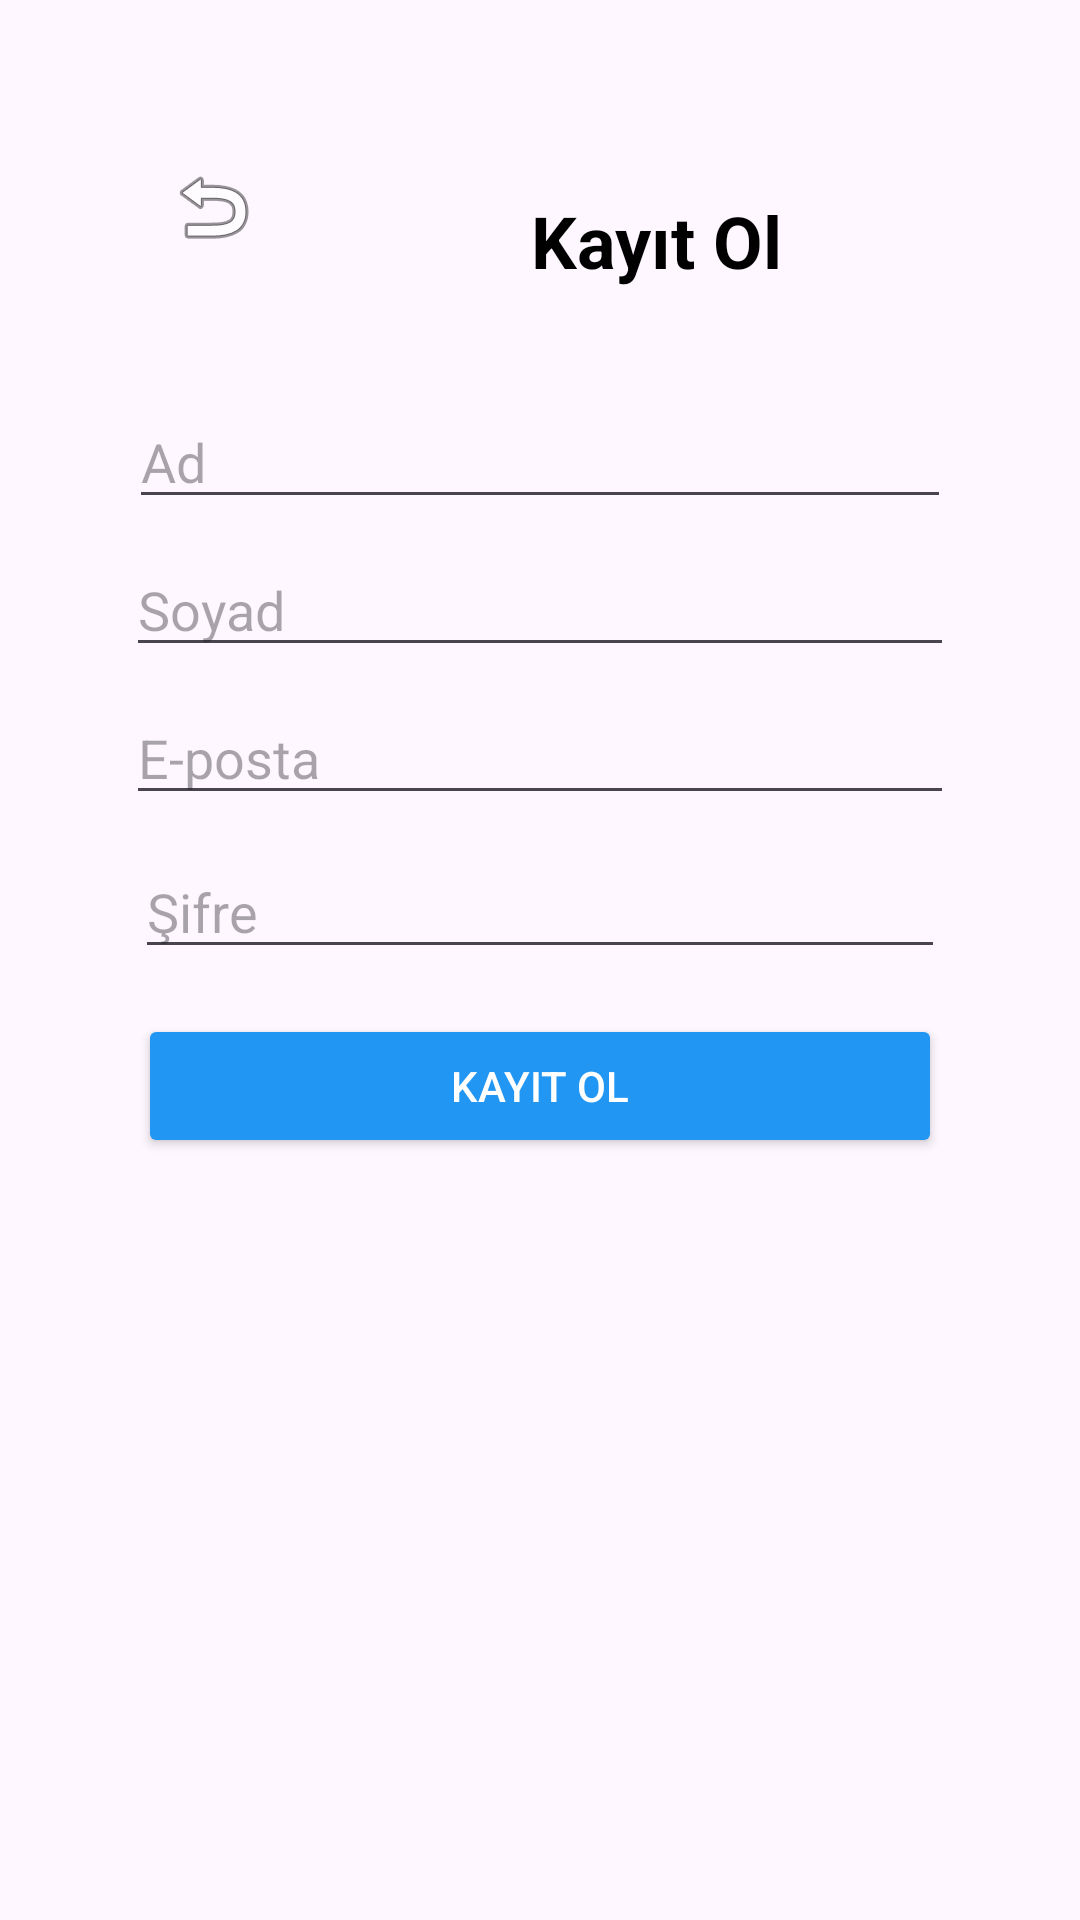

Icons on this 1080 × 1920 Android screen, each with its box as BBox(x1, y1, x2, y2):
Geri Butonu: BBox(180, 176, 249, 239)
